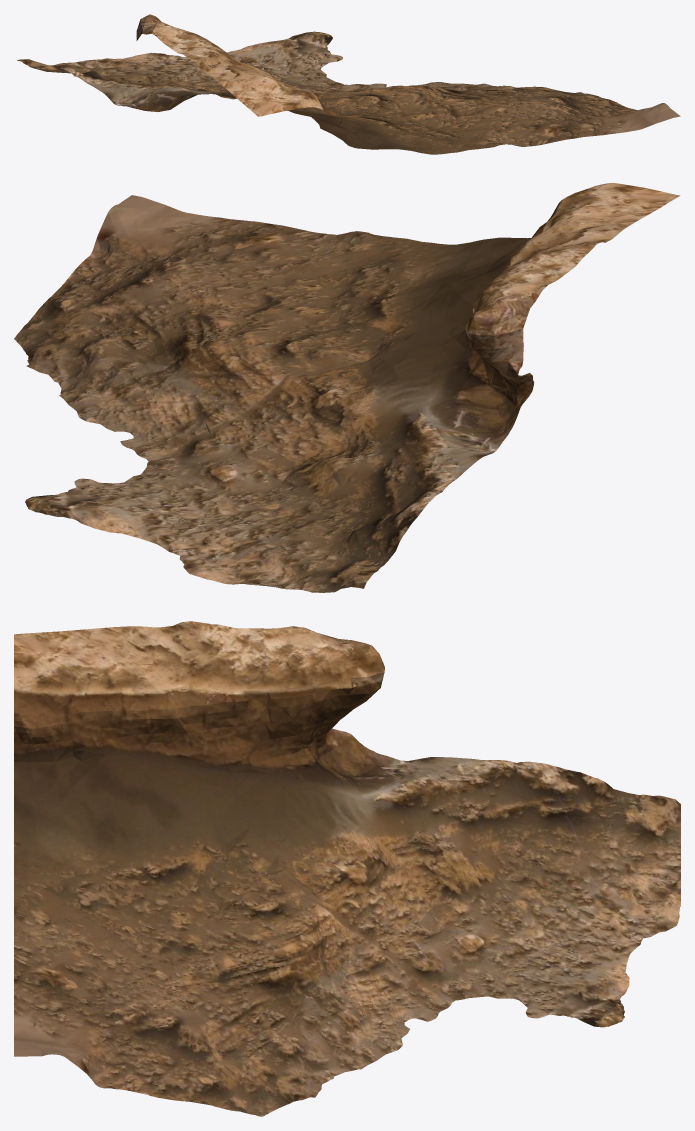
3 renders of one model, top to bottom at view 1: azimuth 30°, elevation 25°; view 2: azimuth 150°, elevation 25°; view 3: azimuth 270°, elevation 25°, orthographic. The views are drawn at different scales.
Size of the model in its own units: 1.04 by 0.3696 by 1.04.
2 materials, 2 textured.
